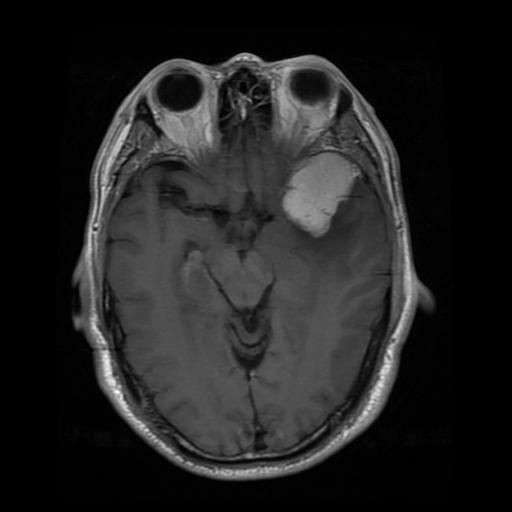Tumour-Meningioma: (270, 140, 379, 254)
